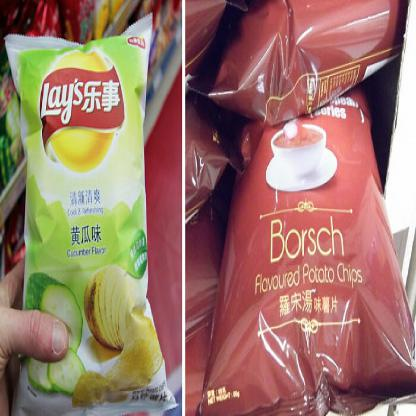potatochip: (0, 5, 180, 415), (194, 90, 416, 415), (204, 0, 414, 126)
